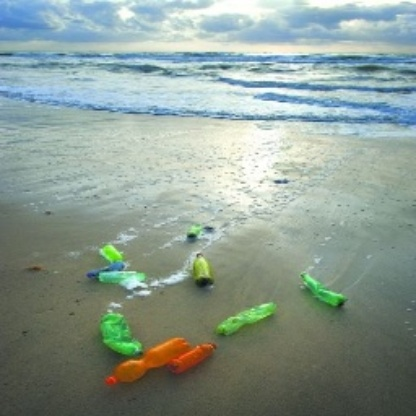bottle: (216, 300, 279, 339), (297, 269, 351, 312), (100, 311, 145, 356), (192, 250, 215, 287)
